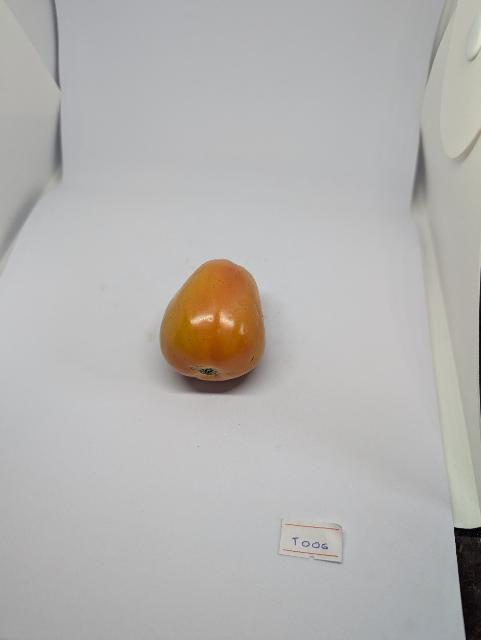turning: (156, 247, 275, 392)
